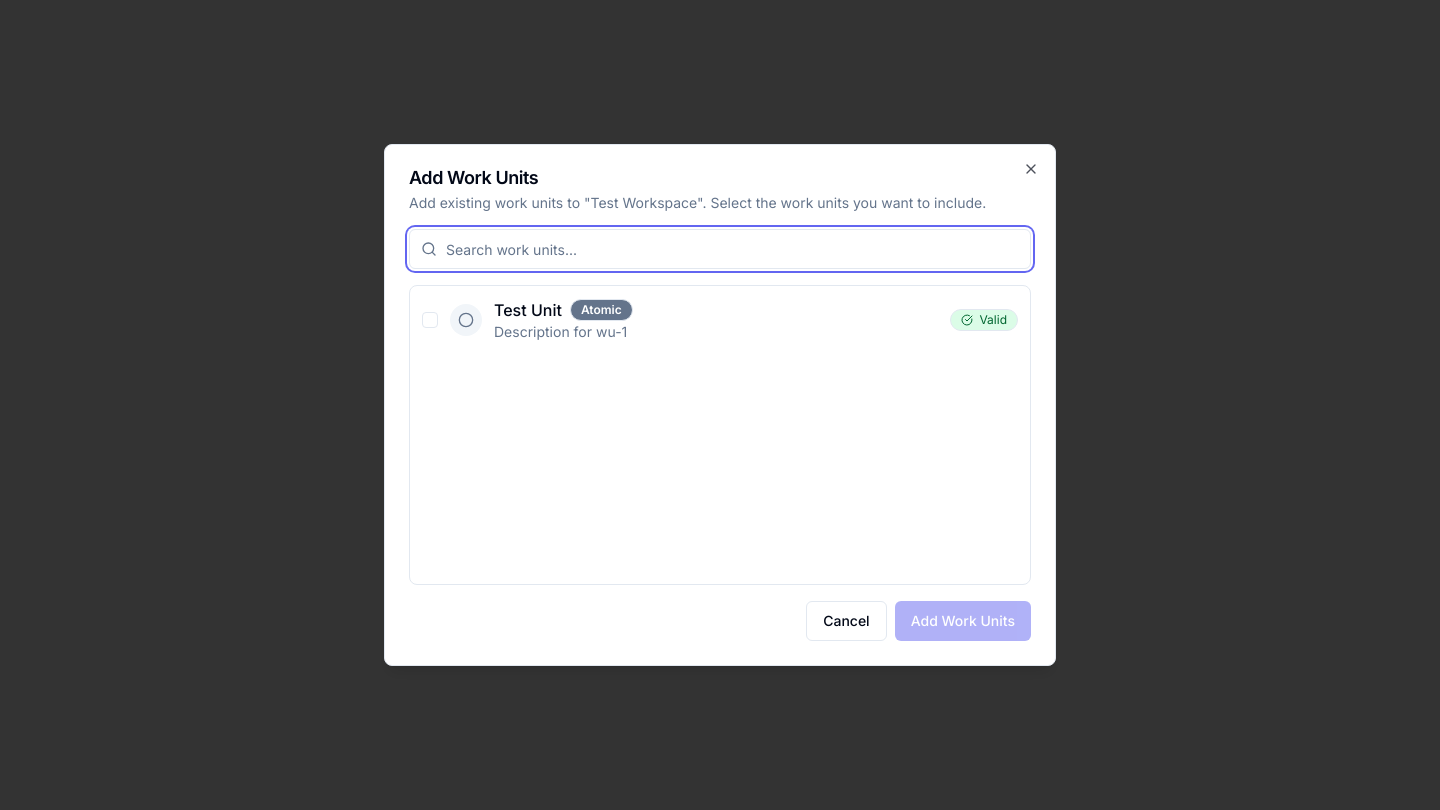
AddWorkUnitDialog › add action › should enable Add button when items are selected
Click the checkbox named "Select Test Unit" at coordinates (430, 320), box 422,312 -> 438,328
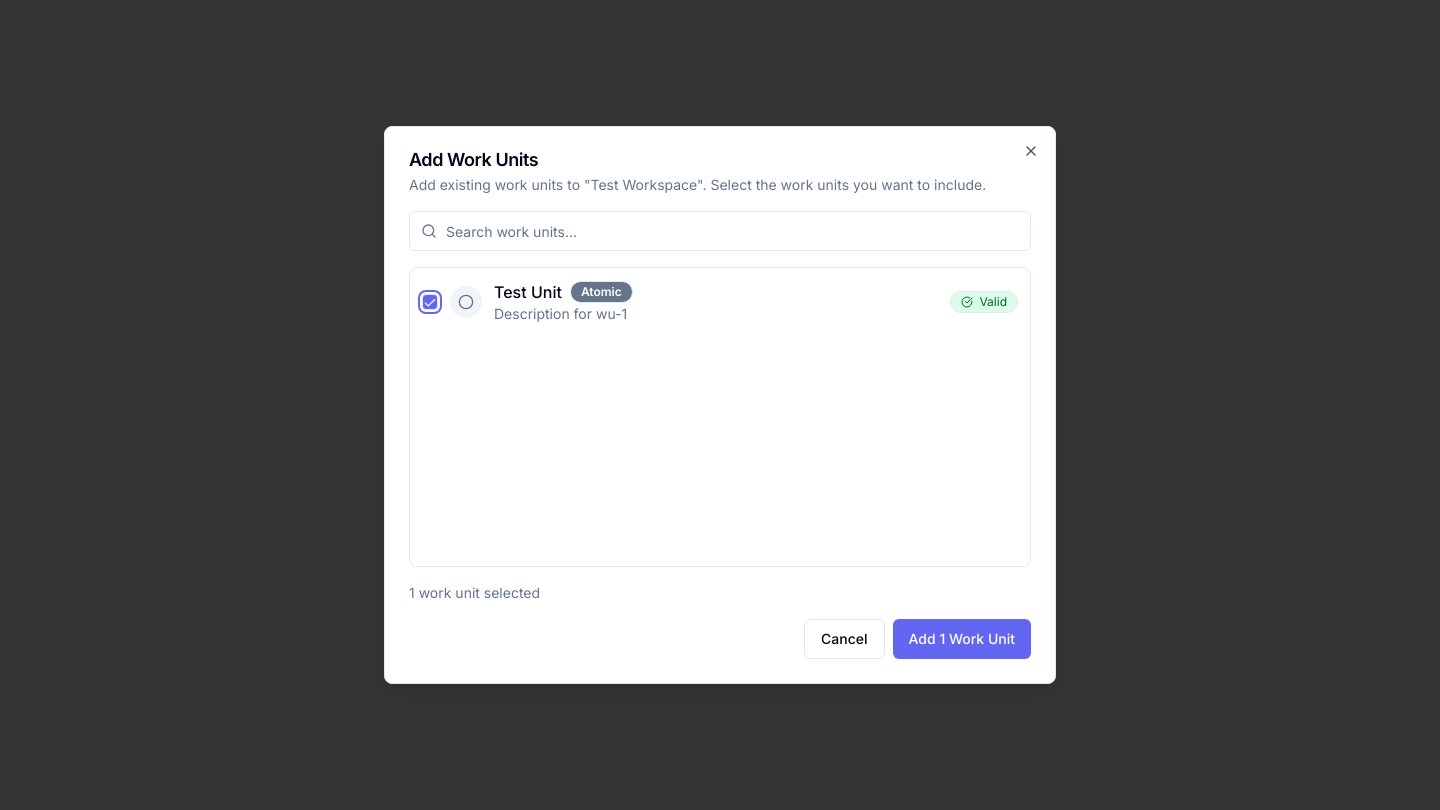
Check: the button "Add 1 Work Unit" is enabled, box 892,619 -> 1031,659
